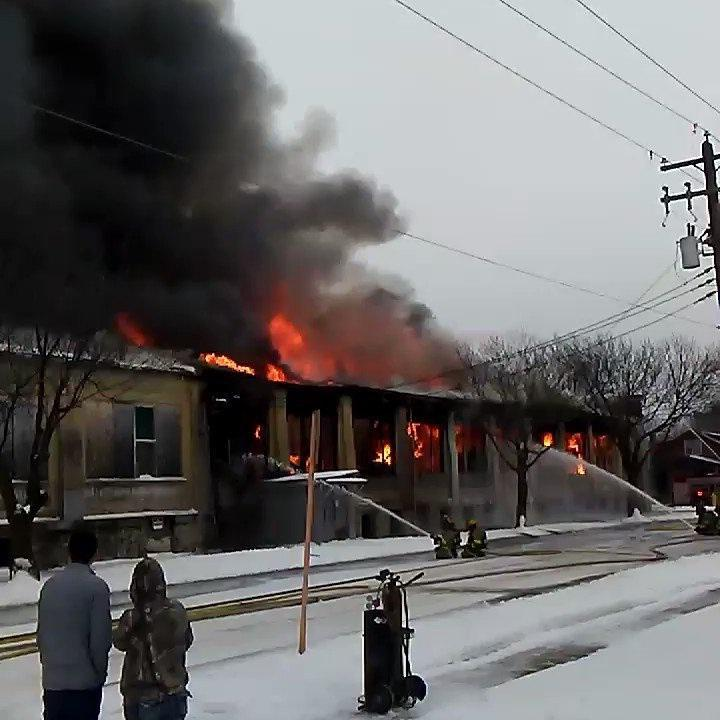Fire: (270, 316, 337, 384), (205, 353, 256, 376), (406, 423, 429, 459), (377, 445, 395, 467), (570, 435, 589, 454), (543, 433, 558, 449)
